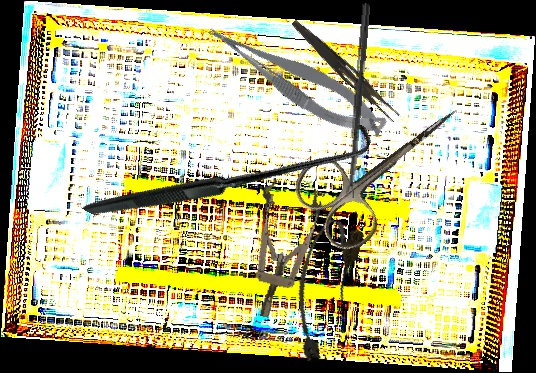Cannula: (278, 215, 366, 367)
Dressing Forceps: (286, 18, 404, 123)
Hook Surgical: (81, 27, 376, 314)
Iris Scissors: (284, 72, 488, 260)
Micro Scissor: (202, 3, 392, 154)
Speculum: (233, 176, 326, 324)
Surgical Spoon: (344, 2, 371, 199)
